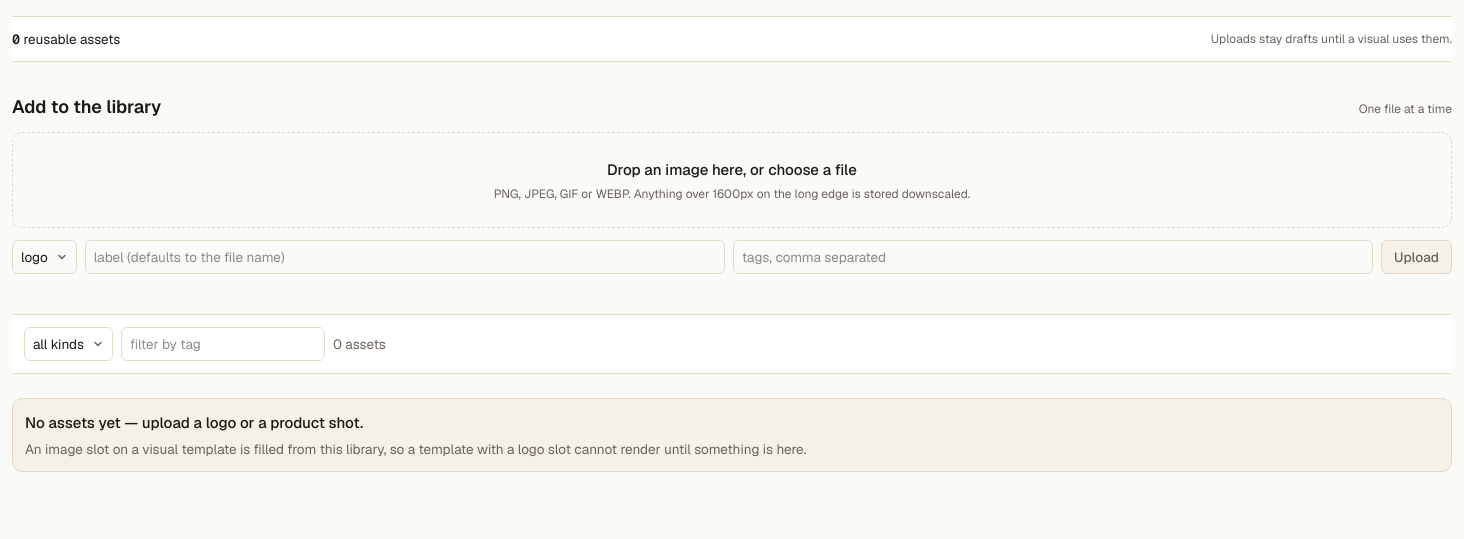
Test case: a failed read › withholds the empty-library claim when the failed read left nothing on screen
Type "cream" into the field labelled "filter by tag" at coordinates (223, 344), box [121,327,325,361]
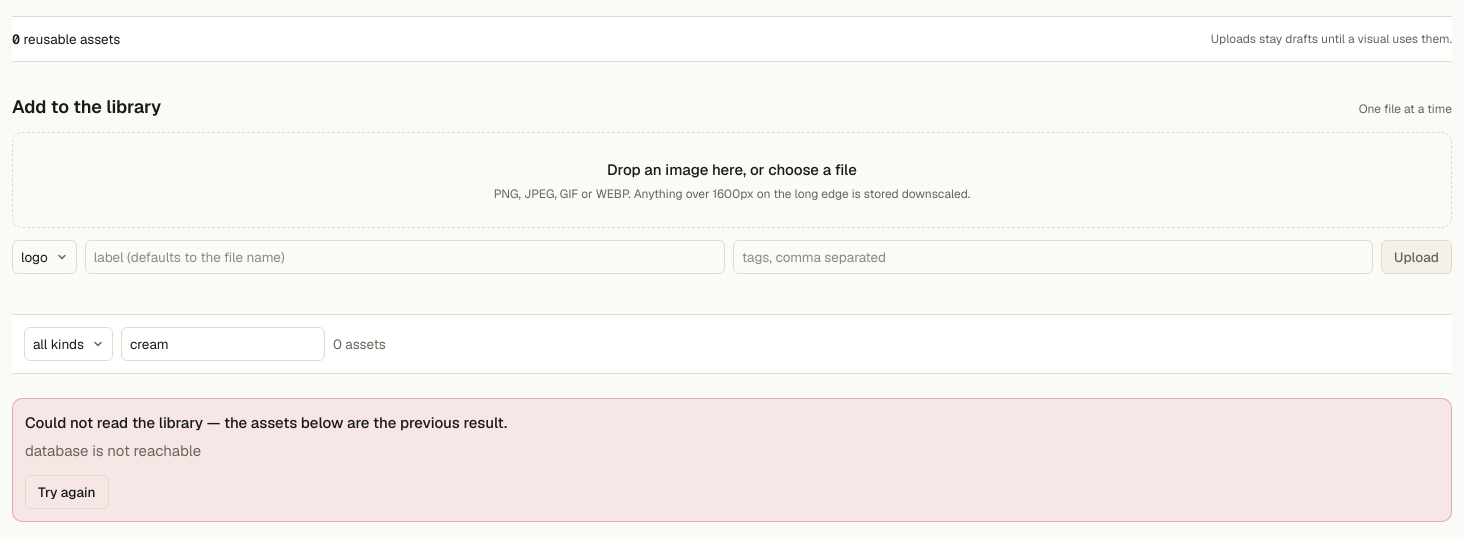
Now the message is shown, box [12,398,1452,522]
Now the text "No assets yet" is gone
